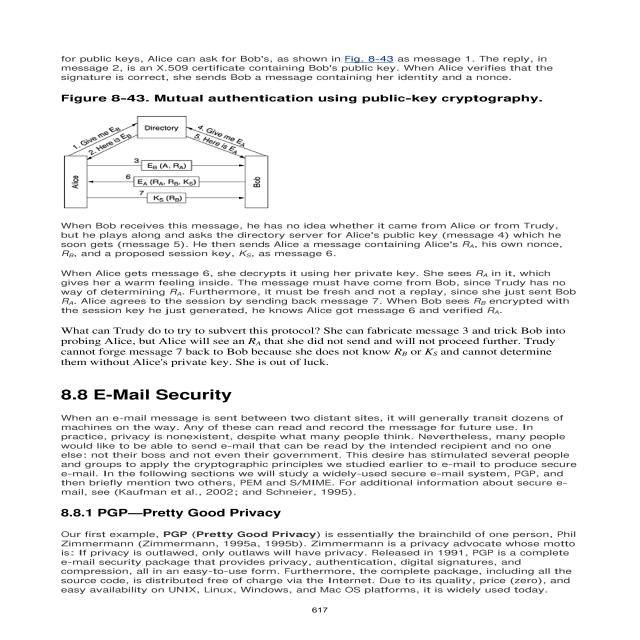diagram: (24, 82, 566, 215)
